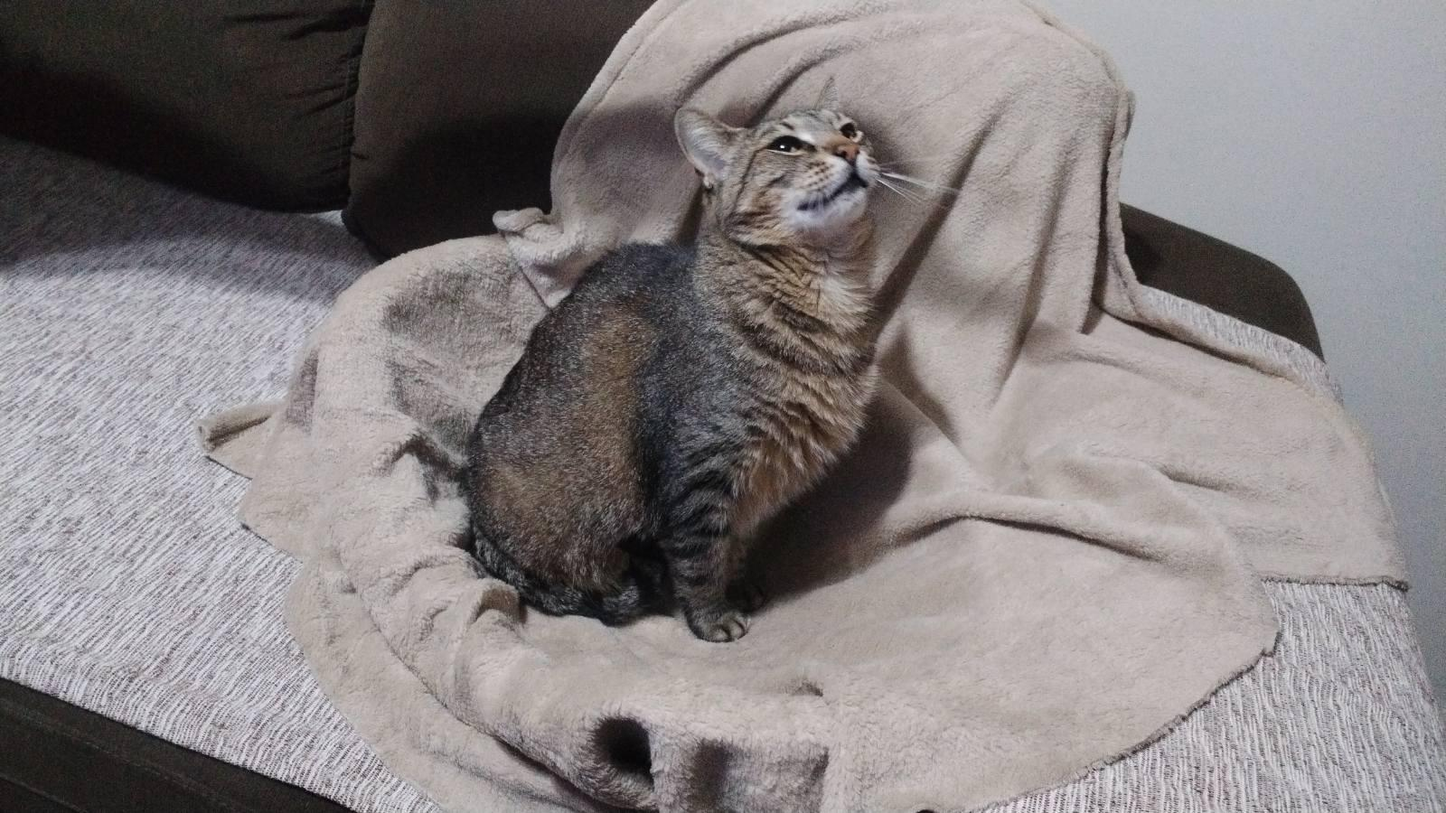macka: (464, 73, 887, 643)
